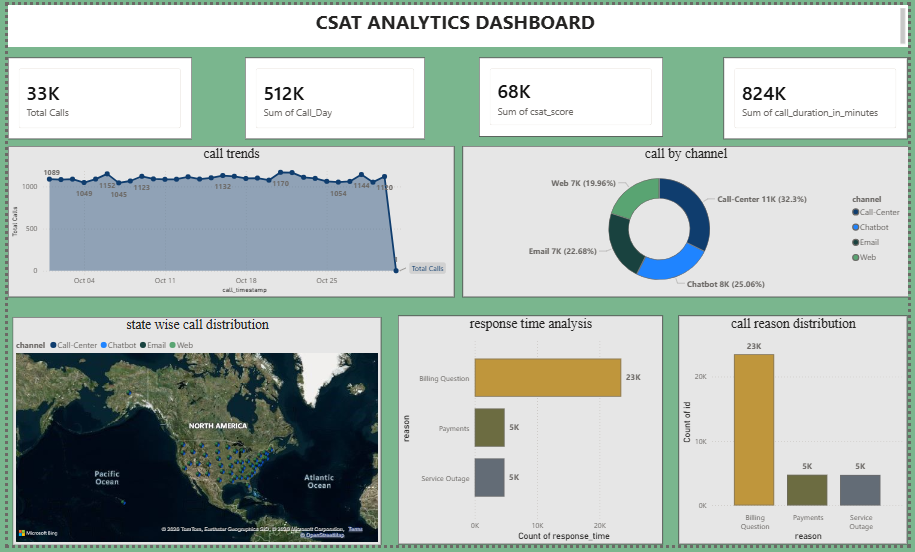

Layout of this report page (visuals, bound fields, positions):
{"tool":"powerbi","page":{"name":"Page 1","canvas":[1500,900],"ordinal":0},"visuals":[{"type":"lineChart","title":"call trends","fields":{"Y":["project_csat_analytics CSAT.Total Calls"],"Category":["project_csat_analytics CSAT.call_timestamp"]},"box":[0,235.4,743.8,252.1],"z":0},{"type":"donutChart","title":"call by channel","fields":{"Category":["project_csat_analytics CSAT.channel"],"Y":["project_csat_analytics CSAT.Total Calls"]},"box":[756.2,235.4,743.8,252.1],"z":1000},{"type":"map","title":"state wise call distribution","fields":{"Category":["project_csat_analytics CSAT.state"],"Series":["project_csat_analytics CSAT.channel"]},"box":[6.4,519.1,614.9,380.9],"z":2000},{"type":"columnChart","title":"call reason distribution","fields":{"Category":["project_csat_analytics CSAT.reason"],"Y":["CountNonNull(project_csat_analytics CSAT.id)"]},"box":[1118.6,518.6,381.4,381.4],"z":3000},{"type":"barChart","title":"response time analysis","fields":{"Y":["CountNonNull(project_csat_analytics CSAT.response_time)"],"Category":["project_csat_analytics CSAT.reason"]},"box":[650,518.6,441.4,381.4],"z":4000},{"type":"textbox","box":[0,0,1500,70],"z":5000},{"type":"cardVisual","fields":{"Data":["Sum(project_csat_analytics CSAT.Call_Day)"]},"box":[395.7,87.2,300,136.2],"z":6000},{"type":"cardVisual","fields":{"Data":["Sum(project_csat_analytics CSAT.call_duration_in_minutes)"]},"box":[1193.6,87.2,306.4,136.2],"z":7000},{"type":"cardVisual","fields":{"Data":["Sum(project_csat_analytics CSAT.csat_score)"]},"box":[785.1,87.2,306.4,131.9],"z":8000},{"type":"cardVisual","fields":{"Data":["project_csat_analytics CSAT.Total Calls"]},"box":[0,87.2,306.4,136.2],"z":9000}]}

Visuals, with their boxes in screenshot pixels (x1, y1, x2, y2), scaled from the page's 1500x900 canvas onto the 915x552 screenshot:
"call trends" lineChart: 0 144 454 299
"call by channel" donutChart: 461 144 914 299
"state wise call distribution" map: 4 318 379 551
"call reason distribution" columnChart: 682 318 914 551
"response time analysis" barChart: 396 318 666 551
textbox: 0 0 914 43
cardVisual - Sum(project_csat_analytics CSAT.Call_Day): 241 53 424 137
cardVisual - Sum(project_csat_analytics CSAT.call_duration_in_minutes): 728 53 914 137
cardVisual - Sum(project_csat_analytics CSAT.csat_score): 479 53 666 134
cardVisual - project_csat_analytics CSAT.Total Calls: 0 53 187 137
